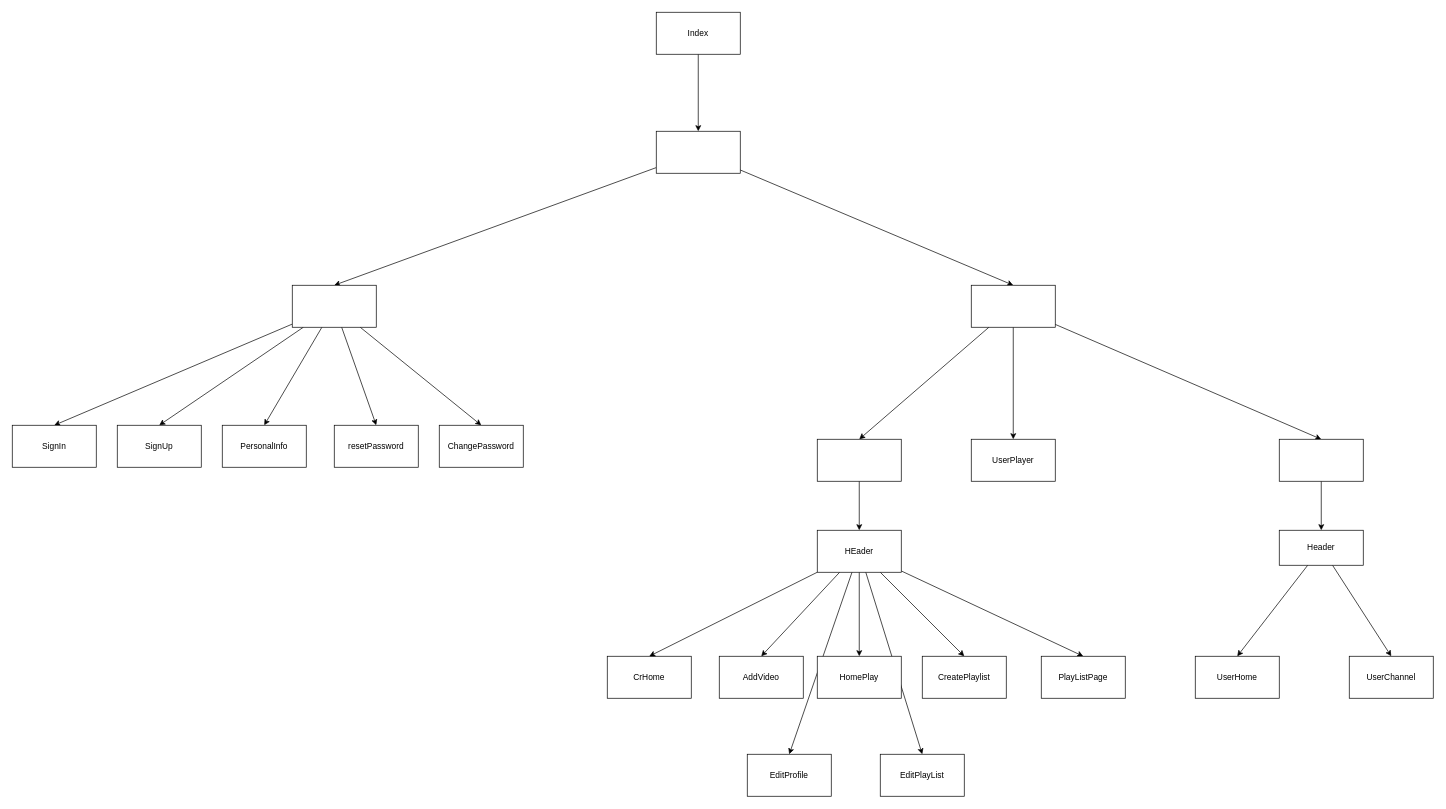
Some shapes in this 1446 by 809 pixel diagram are drawn without their labels. Each missing label, with the centre of its shape:
App: the point at 698,152
AuthorizedUser: the point at 1013,306
Creator: the point at 859,460
Registration: the point at 334,306
User: the point at 1321,460
